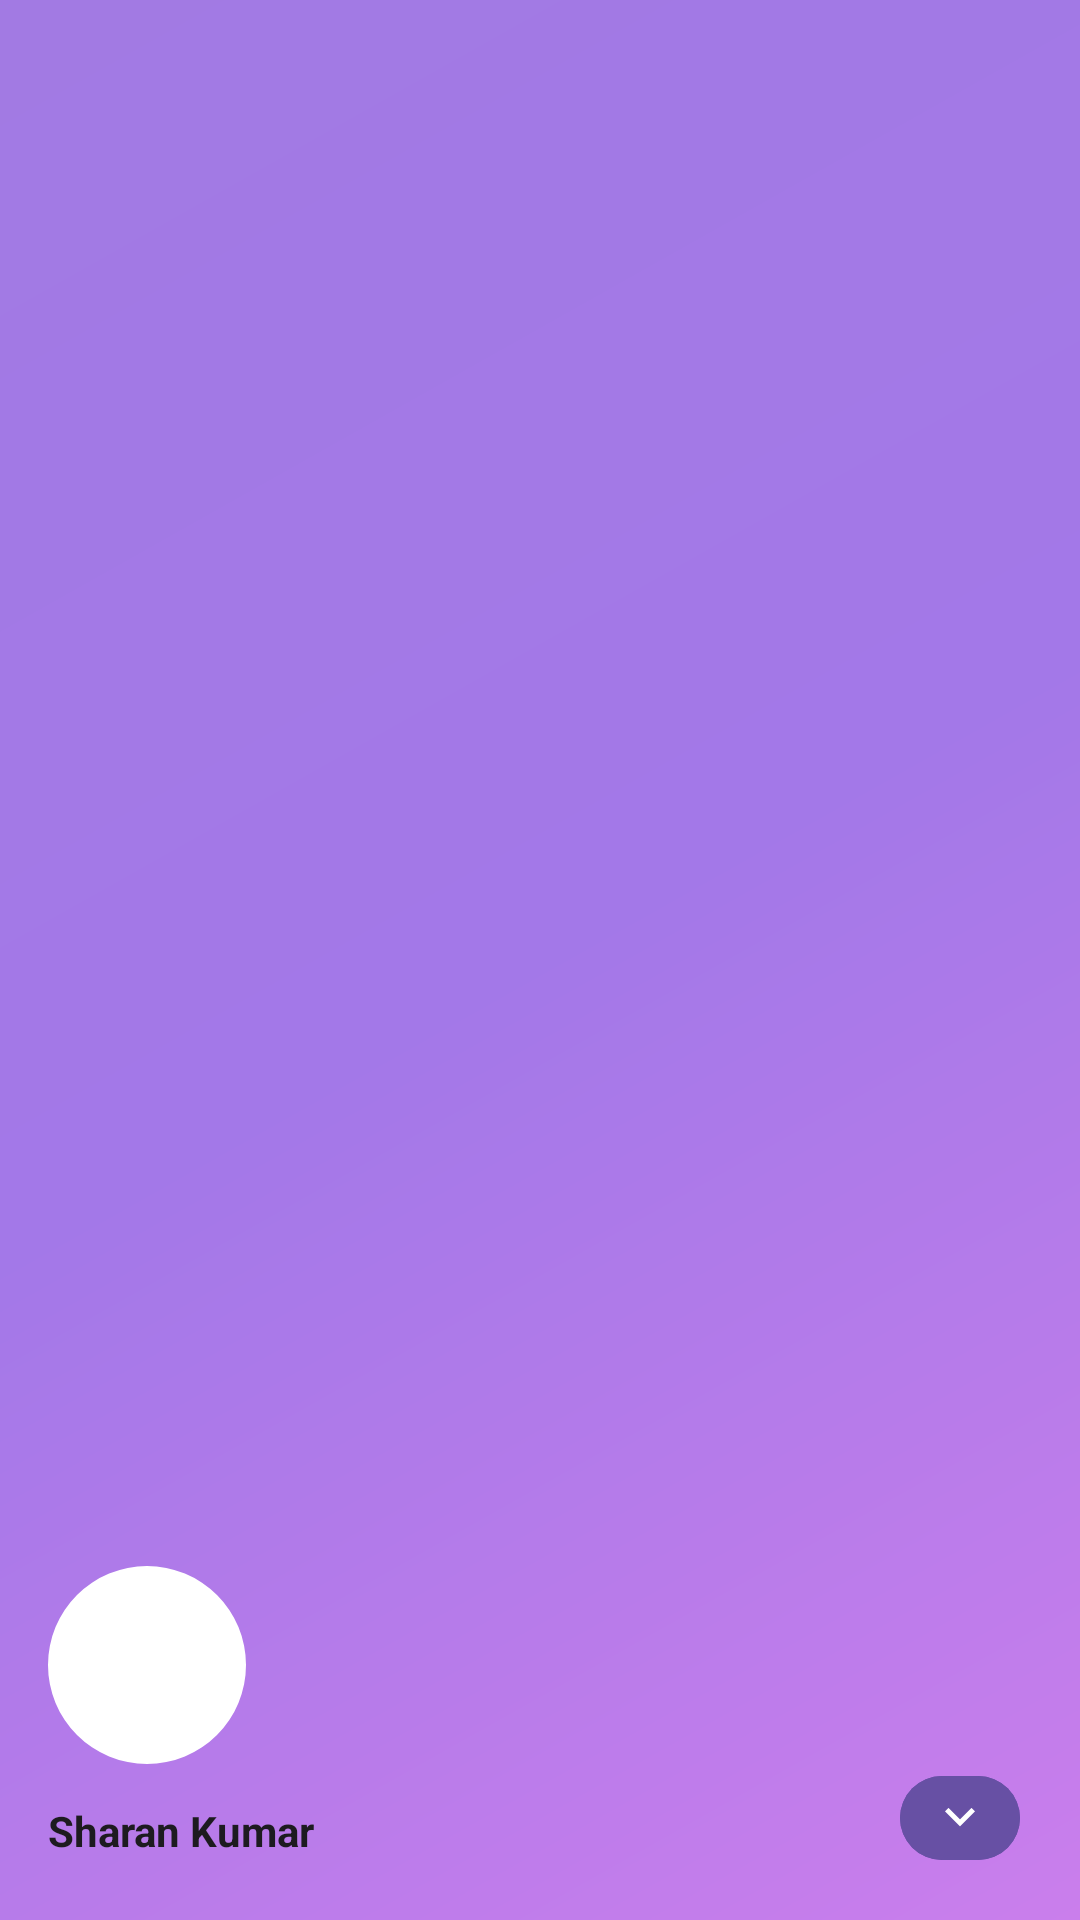

Icon bounding boxes for this 1080x1920 phone screenshot, format (x1, y1, x2, y2):
expand more: (900, 1776, 1020, 1860)
